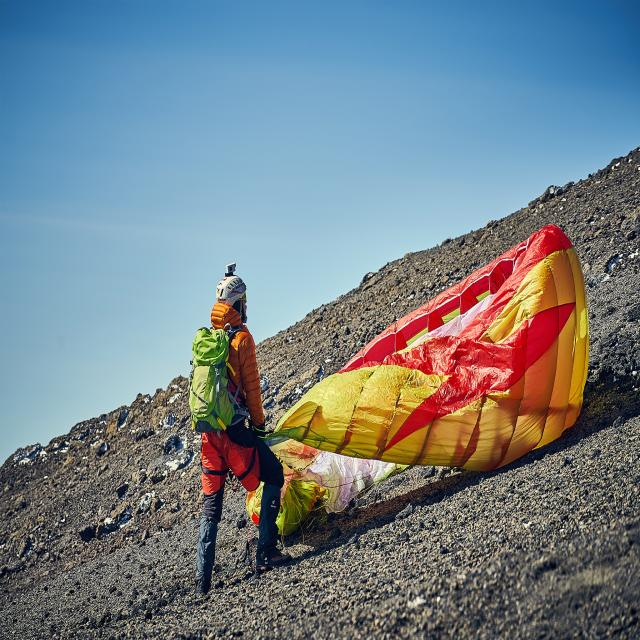paraglider: (246, 220, 594, 548)
